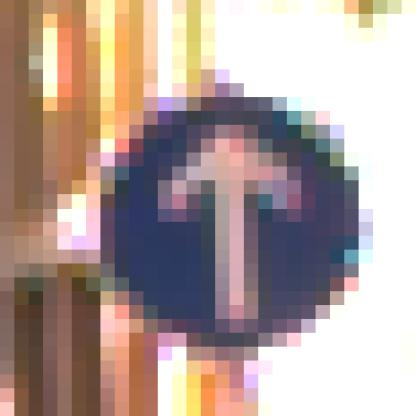AheadOnly: (87, 70, 331, 334)
